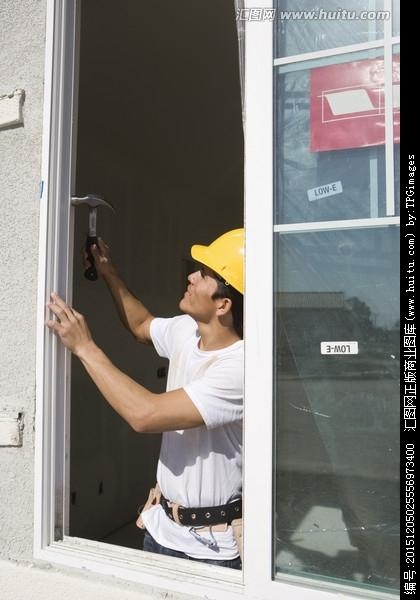helmet: (190, 228, 247, 291)
no_wear: (148, 337, 245, 545)
